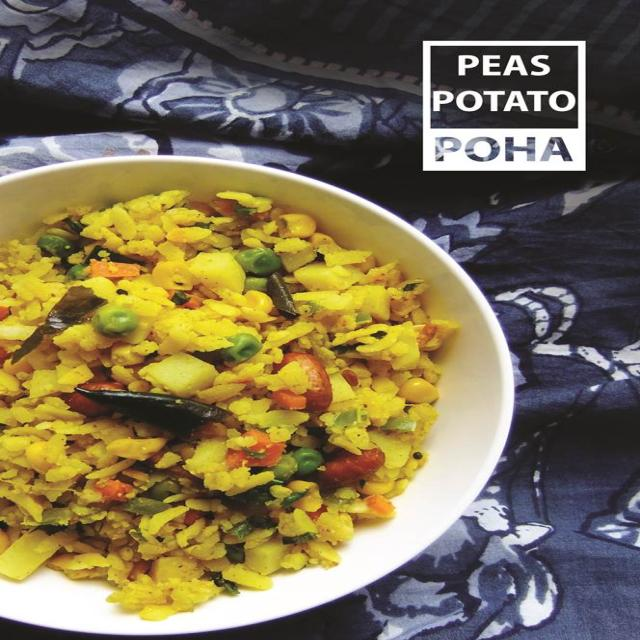POHA: (0, 189, 449, 617)
